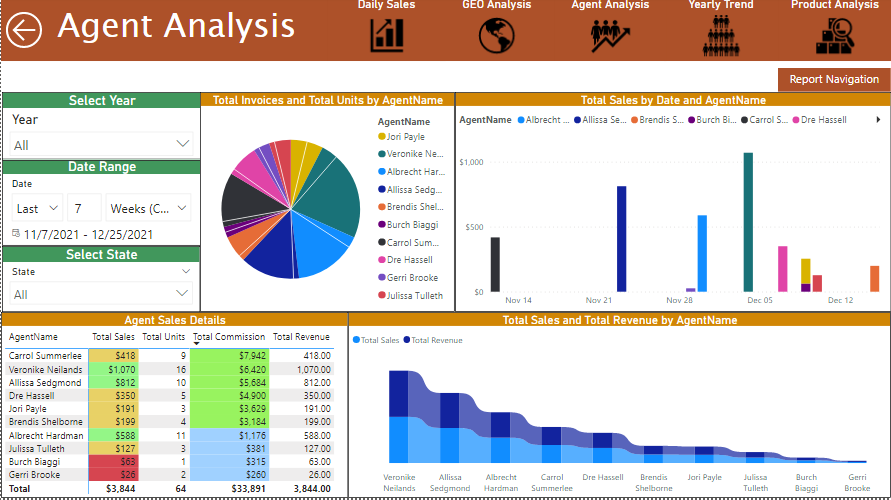

The dashboard page shown, as its layout file describes it:
{"tool":"powerbi","page":{"name":"Agent Analysis","canvas":[1280,720],"ordinal":2},"visuals":[{"type":"actionButton","title":"Daily Sales","box":[468.5,0,171,92],"z":0},{"type":"actionButton","title":"Product Analysis","box":[1116.6,0,163.8,92],"z":1000},{"type":"actionButton","title":"Yearly Trend","box":[952.8,0,163.8,92],"z":2000},{"type":"actionButton","title":"Agent Analysis","box":[794.7,0,162.4,92],"z":3000},{"type":"actionButton","title":"GEO Analysis","box":[630.9,0,163.8,92],"z":4000},{"type":"textbox","box":[1116.6,102,162.4,34.5],"z":5000},{"type":"textbox","box":[0,0,468.5,92],"z":6000},{"type":"slicer","title":"Select State","fields":{"Values":["DimCustomers.State"]},"box":[1.7,357.8,283.9,107.5],"z":7000},{"type":"slicer","title":"Date Range","fields":{"Values":["DimDate.Date"]},"box":[1.4,231.4,286,126.5],"z":8000},{"type":"ribbonChart","title":"Sales and Revenue by Date","fields":{"Category":["DimAgents.AgentName","DimDate.Date"],"Y":["FactSales.Total Sales","FactSales.Total Revenue"]},"box":[0,451.9,640,268.8],"z":9000},{"type":"lineStackedColumnComboChart","title":"Sales by Date and AgentName","fields":{"Category":["DimDate.Date"],"Y":["FactSales.Total Sales"],"Series":["DimAgents.AgentName"]},"box":[640,451.9,638.3,268.8],"z":10000},{"type":"pivotTable","title":"Agent Sales Details","fields":{"Rows":["DimAgents.AgentName"],"Values":["FactSales.Total Sales","FactSales.Total Units","FactSales.Total Commission","FactSales.Total Revenue"]},"box":[287.2,230.1,542.6,221.7],"z":11000},{"type":"pieChart","title":"Invoices and Units by AgentName","fields":{"Category":["DimAgents.AgentName"],"Y":["FactSales.Total Invoices","FactSales.Total Units"]},"box":[829.8,230.1,448.5,220.1],"z":12000},{"type":"actionButton","box":[0,14.4,100.6,66.1],"z":13000},{"type":"slicer","title":"Select Year","fields":{"Values":["DimDate.Year"]},"box":[0,145.1,1277.6,86.2],"z":14000}]}

Visuals, with their boxes in screenshot pixels (x1, y1, x2, y2), scaled from the page's 1280x720 canvas onto the 891x500 screenshot:
"Daily Sales" actionButton: 326, 0, 445, 64
"Product Analysis" actionButton: 777, 0, 890, 64
"Yearly Trend" actionButton: 663, 0, 777, 64
"Agent Analysis" actionButton: 553, 0, 666, 64
"GEO Analysis" actionButton: 439, 0, 553, 64
textbox: 777, 71, 890, 95
textbox: 0, 0, 326, 64
"Select State" slicer: 1, 248, 199, 323
"Date Range" slicer: 1, 161, 200, 249
"Sales and Revenue by Date" ribbonChart: 0, 314, 446, 499
"Sales by Date and AgentName" lineStackedColumnComboChart: 446, 314, 890, 499
"Agent Sales Details" pivotTable: 200, 160, 578, 314
"Invoices and Units by AgentName" pieChart: 578, 160, 890, 313
actionButton: 0, 10, 70, 56
"Select Year" slicer: 0, 101, 889, 161
